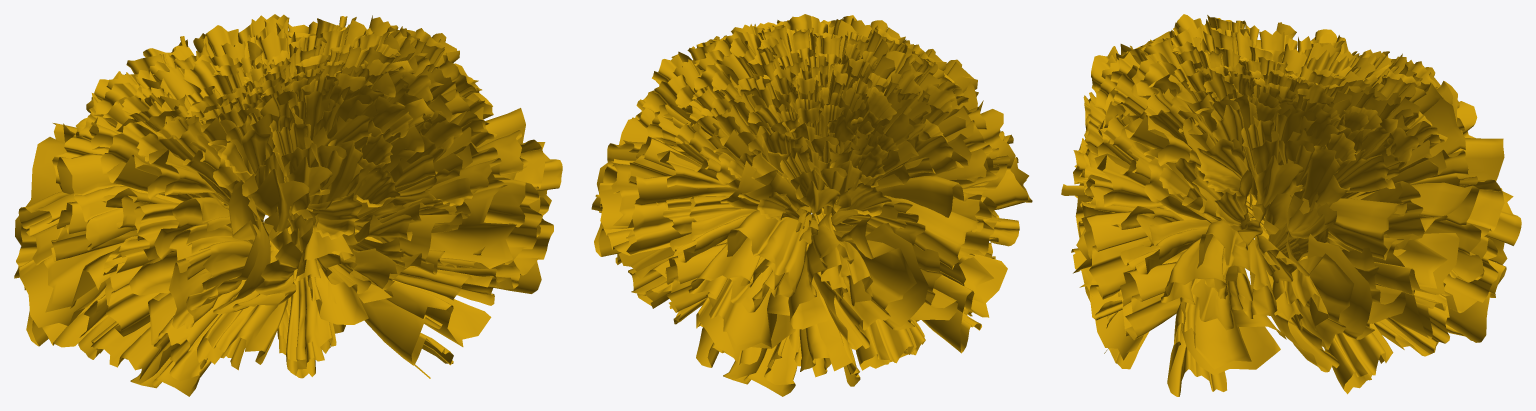
File: marigold.fbx
3 views of the same model, side by side, from view 1: azimuth 30°, elevation 25°; view 2: azimuth 150°, elevation 25°; view 3: azimuth 270°, elevation 25° (orthographic). The views are drawn at different scales.
Parts seen in each view (by area): view 1: Marigolds; view 2: Marigolds; view 3: Marigolds.
Part boxes in pixels (bbox=[...]): Marigolds: bbox=[14, 14, 562, 396]; Marigolds: bbox=[591, 14, 1032, 396]; Marigolds: bbox=[1061, 14, 1521, 396].
Bounding box in the file's own units: 180 × 119 × 161.
